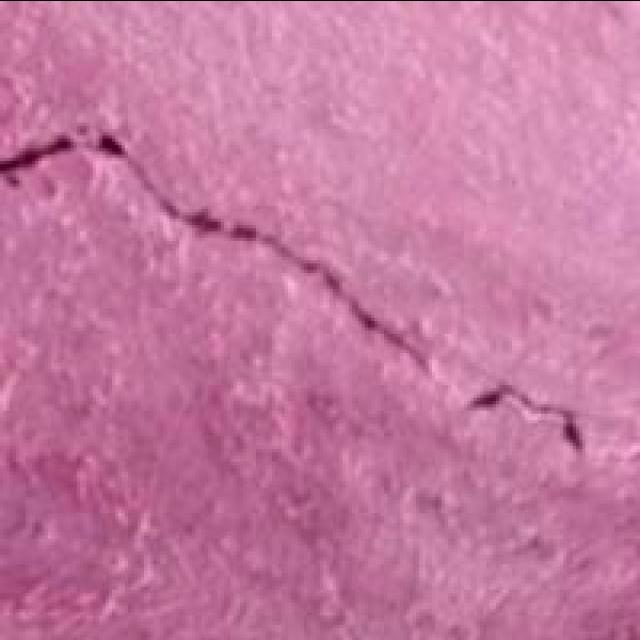SurfaceCrack: (0, 108, 608, 466)
